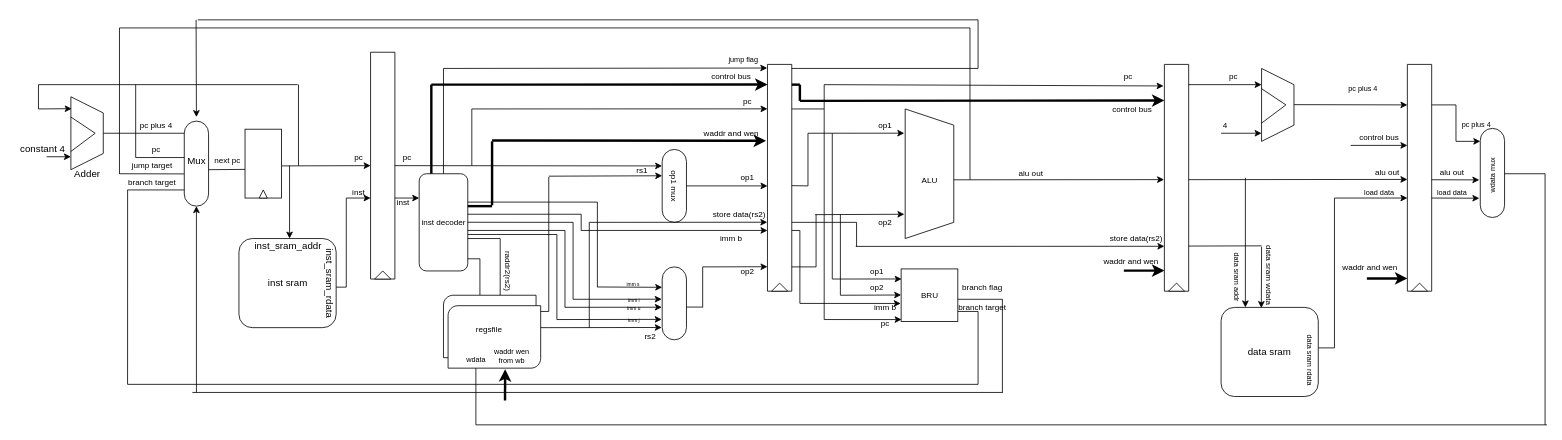
Image size: 1562x440. Some labels were removed from this diagram. The centre of each missing label's shape, as x and y in pixels:
op2 mux: point 673,303
pcR: point 262,163
raddr1(rs1): point 483,266
